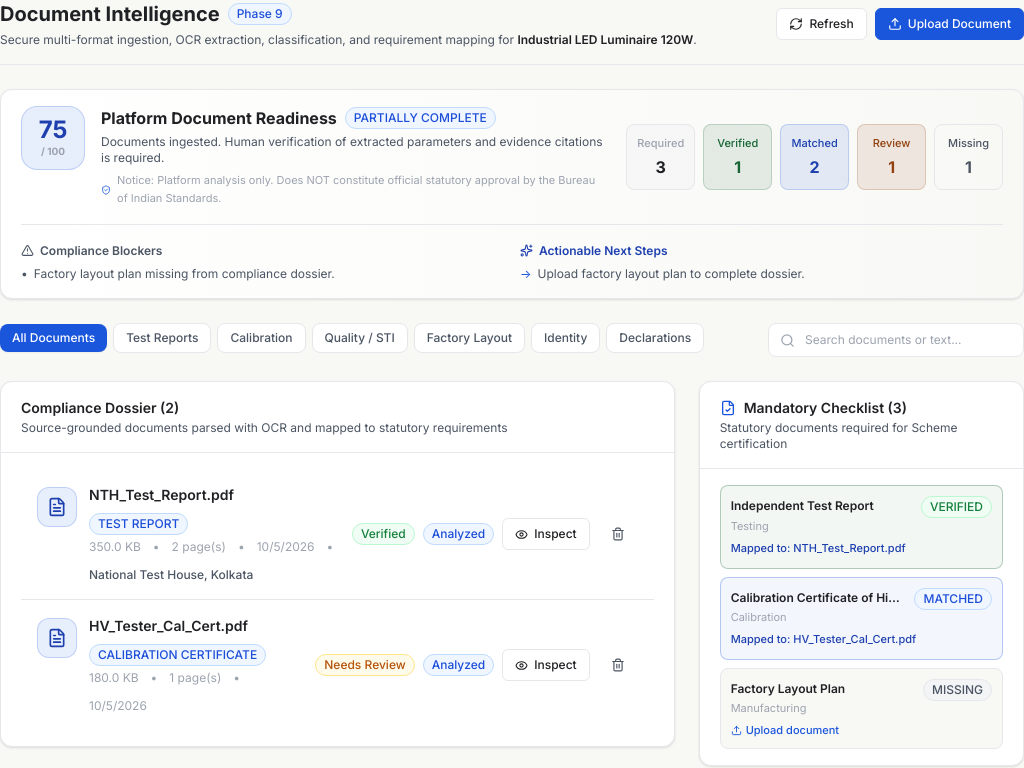
Test: Phase 9 — Frontend Document Intelligence Tests › 3. Opens document inspection drawer with structured metadata and page evidence
Expected: the text "NTH_Test_Report.pdf" is shown, [89,485,234,505]
Click the button "Inspect" in the row of "350.0": (546, 534) [502,518,590,550]
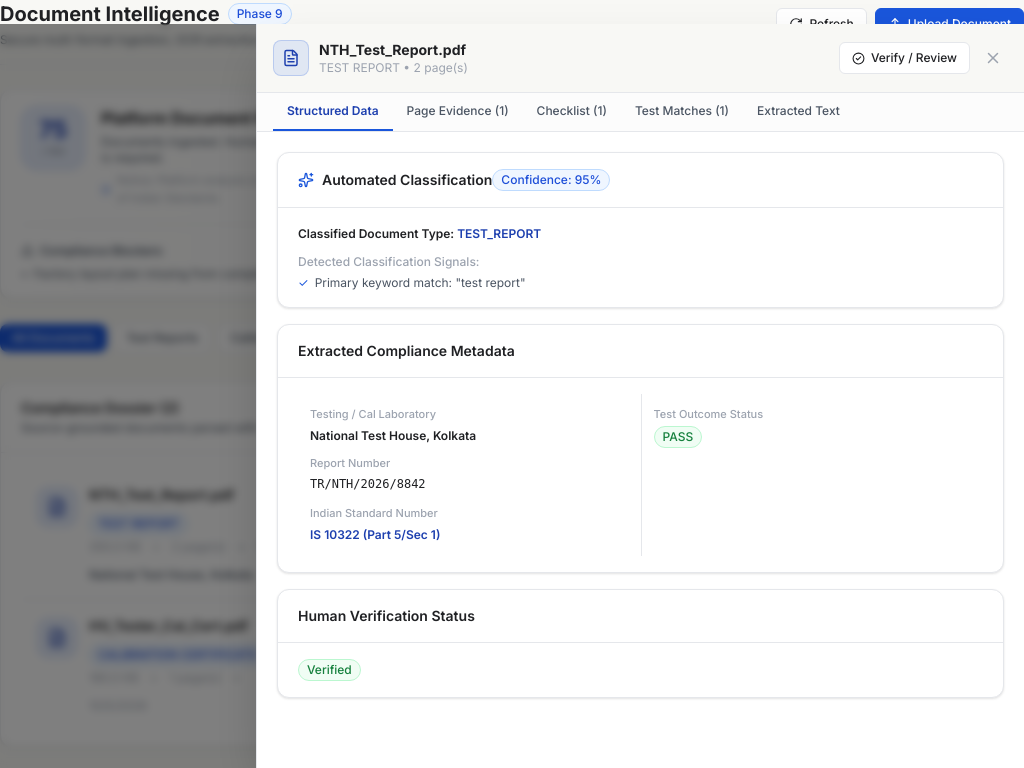
Expected: the text "National Test House, Kolkata" below "350.0" is shown, [89,567,253,582]
Expected: the heading "Automated Classification" is shown, [322,170,492,190]
Expected: the text "TR/NTH/2026/8842" is shown, [310,477,426,491]
